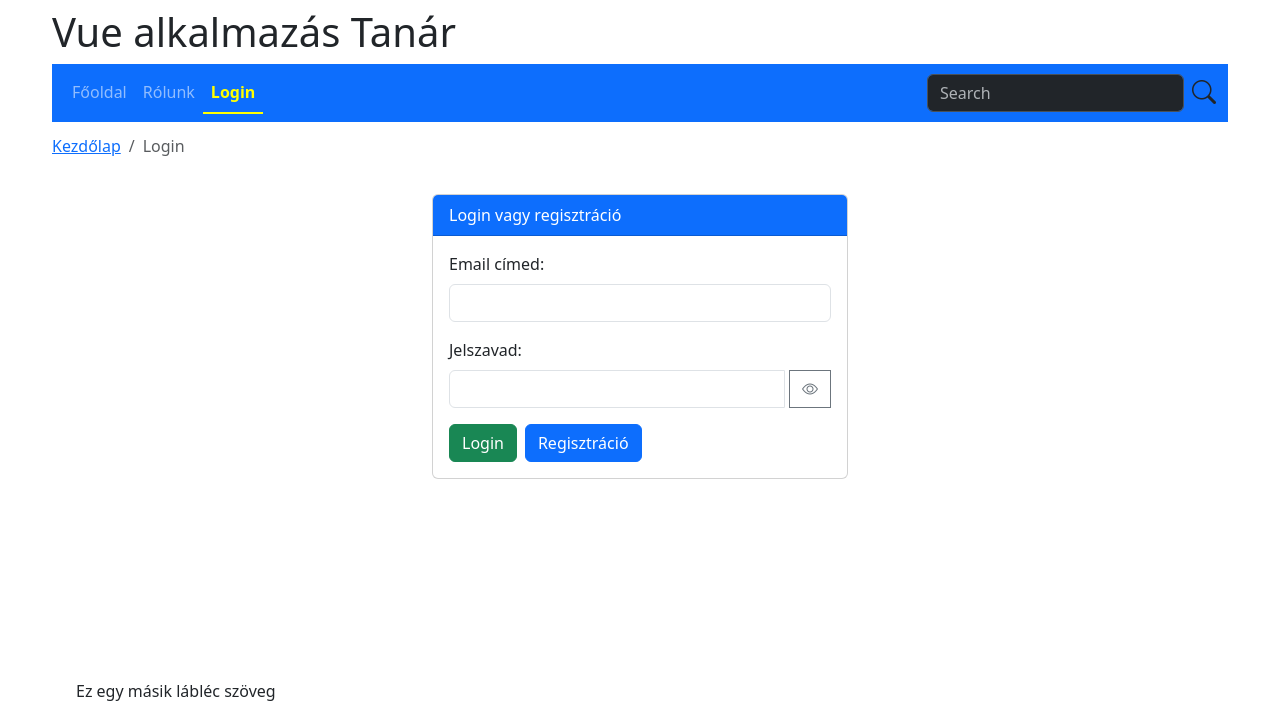
Bejelentkezés folyamata › Hibaüzenet megjelenítése helytelen jelszó esetén
Type "rossz@email.hu" into the field with id "email".
click(640, 303); type("rossz@email.hu")  # box [449,284,831,322]
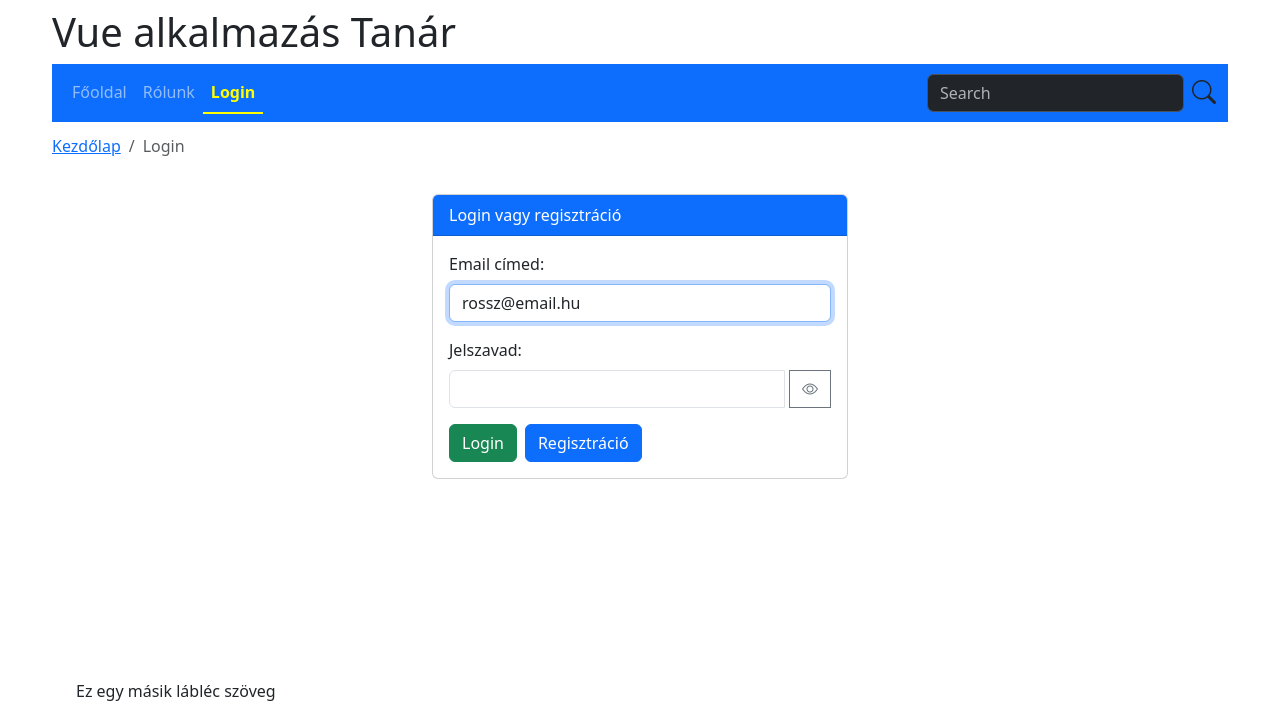
Type "rosszjelszo" into the password field.
click(617, 389); type("rosszjelszo")  # box [449,370,785,408]
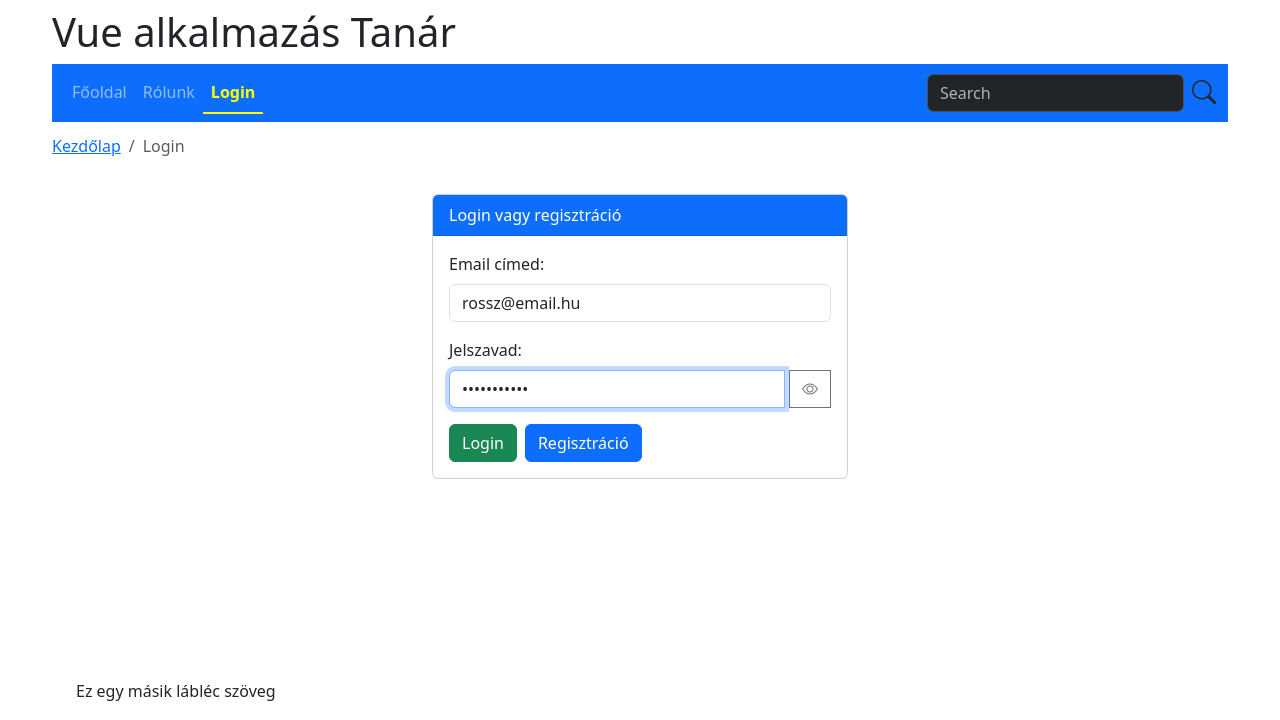
Click the submit button.
click(483, 443)  # box [449,424,517,462]
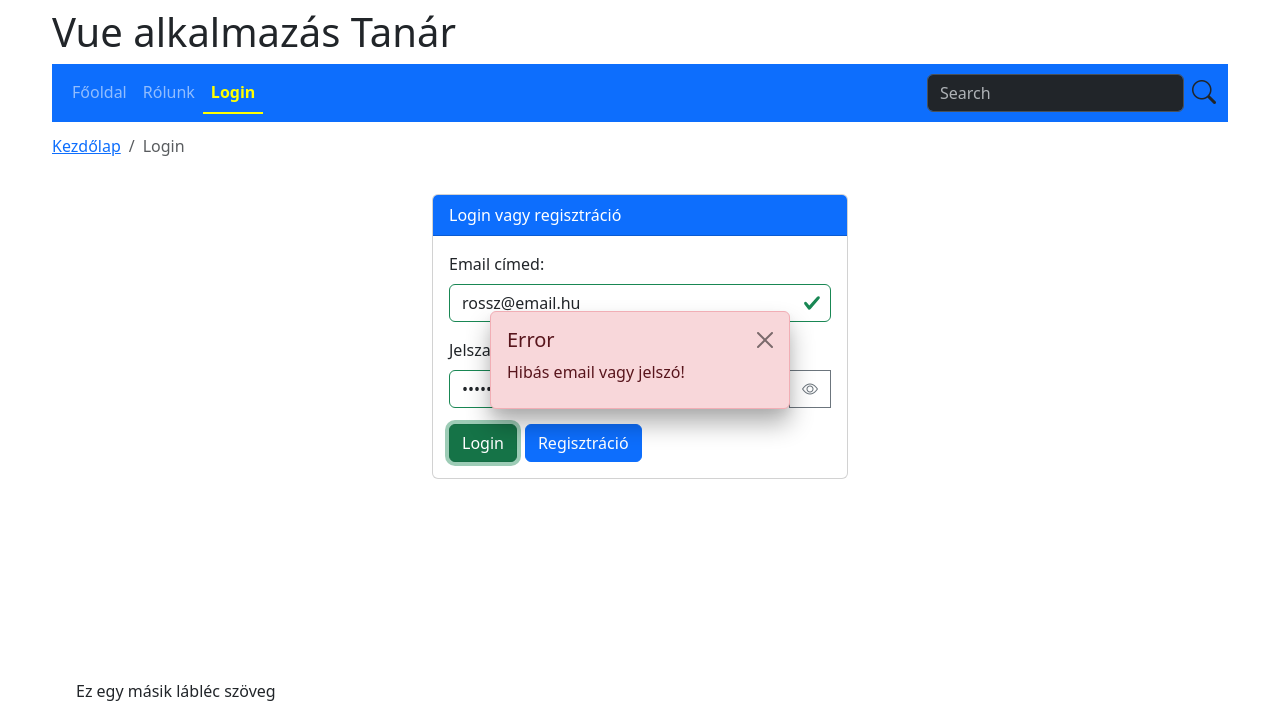
Result: the text "Hibás email vagy jelszó!" is shown at [507,361,685,383]
